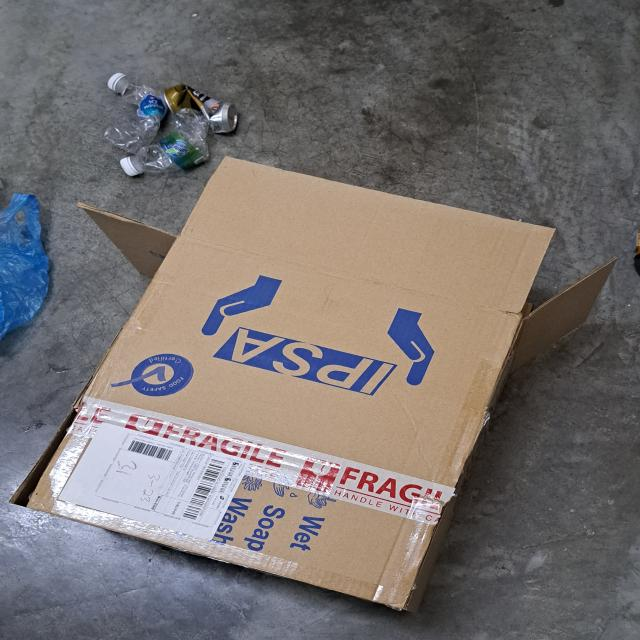can: (163, 82, 238, 134)
cardboard: (10, 156, 620, 616)
plastic bag: (0, 194, 55, 352)
plastic bottle: (134, 108, 211, 173), (104, 77, 166, 156)
plastic bottle cap: (119, 157, 139, 176), (107, 72, 125, 91)
